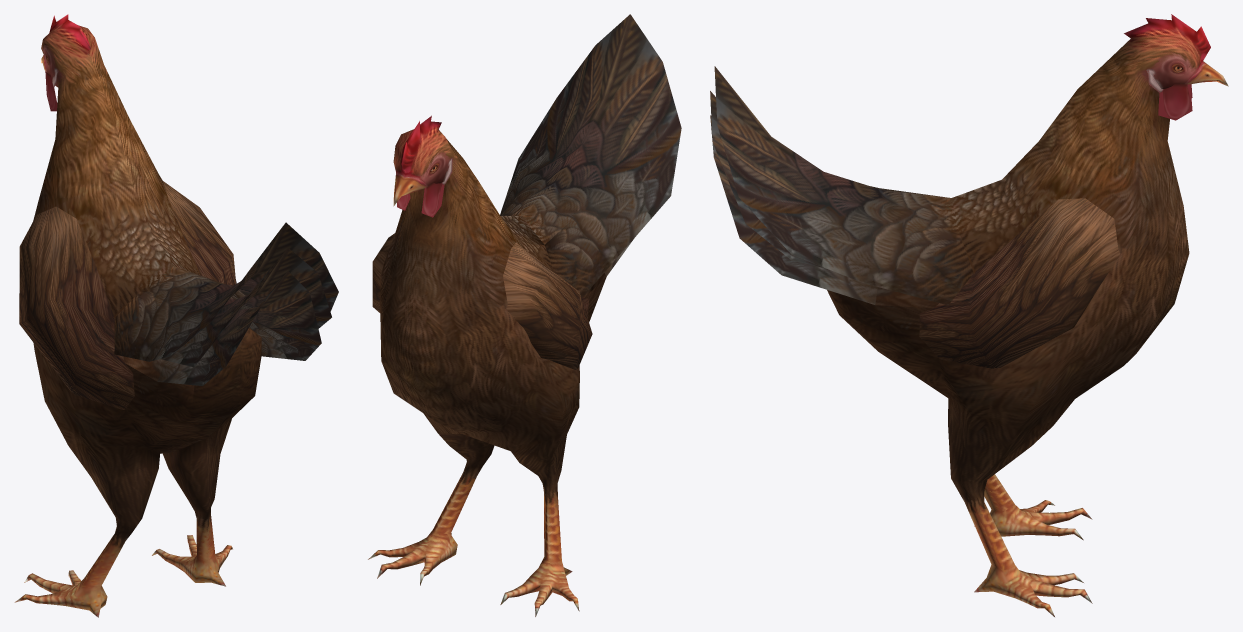
Rendered from muji_05.FBX.
The picture shows the model from 3 angles, left to right: view 1: azimuth 30°, elevation 25°; view 2: azimuth 150°, elevation 25°; view 3: azimuth 270°, elevation 25°; orthographic projection. The views are drawn at different scales.
Visible parts, largest first — view 1: muji_05; view 2: muji_05; view 3: muji_05.
Part boxes in pixels (left/top/right/bottom): muji_05: left=14, top=14, right=338, bottom=617; muji_05: left=368, top=14, right=681, bottom=616; muji_05: left=710, top=14, right=1228, bottom=616.
Bounding box in the file's own units: 22.98 × 52.27 × 44.85.
